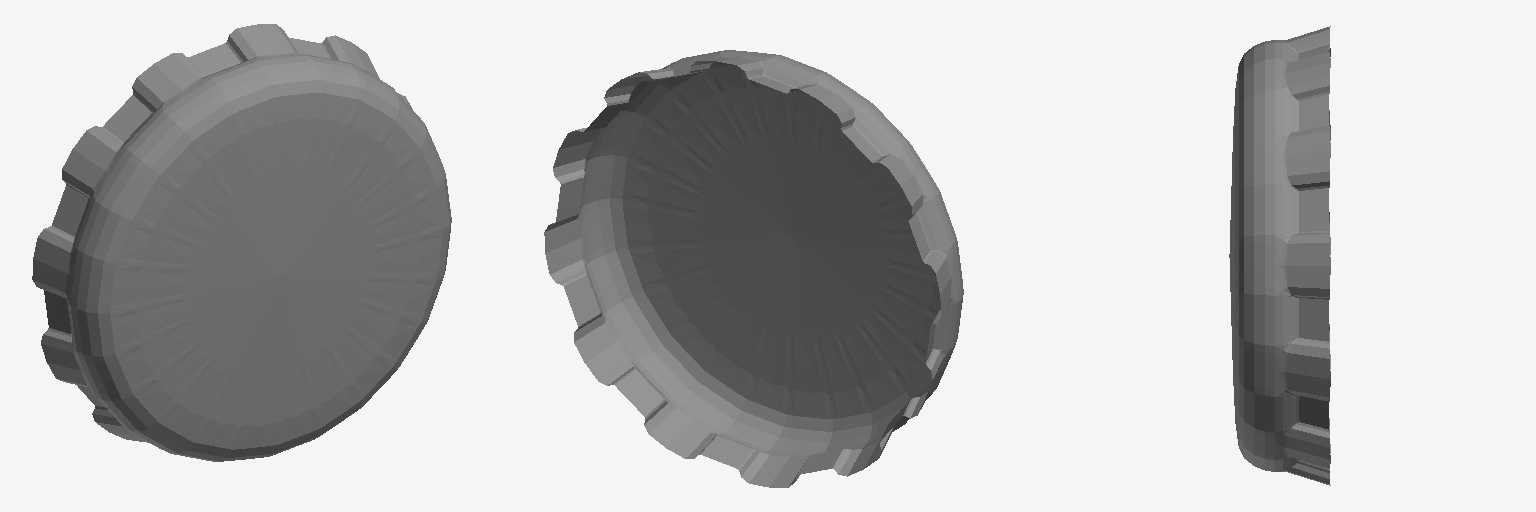
File: cover.obj
3 renders of one model, left to right at view 1: azimuth 30°, elevation 25°; view 2: azimuth 150°, elevation 25°; view 3: azimuth 270°, elevation 25°, orthographic.
Parts seen in each view (by area): view 1: Botella; view 2: Botella; view 3: Botella.
Boxes of the visible parts, x1,y1,x2,y2 form: Botella: [32, 24, 451, 461]; Botella: [544, 50, 963, 487]; Botella: [1229, 26, 1330, 485].
Size of the model in its own units: 4.46 by 4.46 by 0.9844.